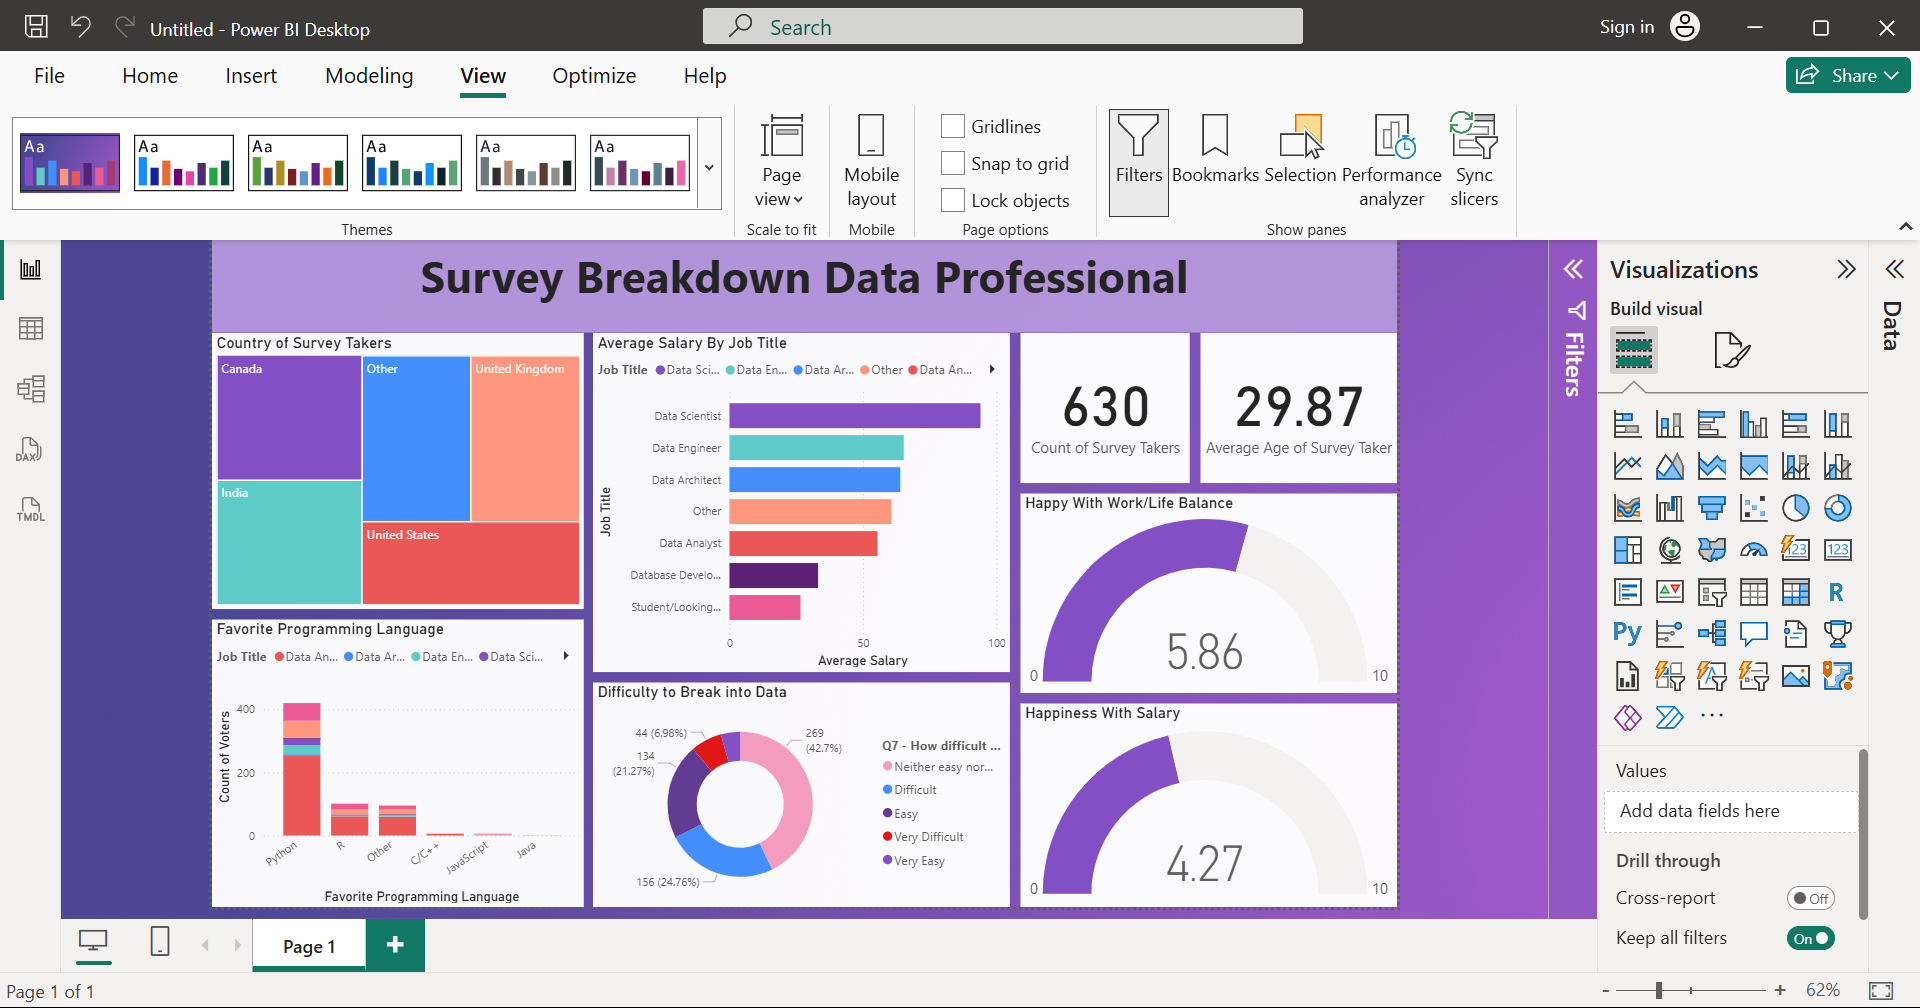

Layout of this report page (visuals, bound fields, positions):
{"tool":"powerbi","page":{"name":"Page 1","canvas":[1280,720],"ordinal":0},"visuals":[{"type":"textbox","box":[0,0,1279.4,100.2],"z":0},{"type":"card","fields":{"Values":["Count(Data Professional Survey.Unique ID)"]},"box":[872.8,100.4,183,161.9],"z":1000},{"type":"card","fields":{"Values":["Avg(Data Professional Survey.Q10 - Current Age)"]},"box":[1067.1,100.4,212.1,161.9],"z":2000},{"type":"barChart","title":"Average Salary By Job Title","fields":{"Category":["Data Professional Survey.Q1 - Which Title Best Fits your Current Role?.1"],"Y":["Avg(Data Professional Survey.Average Salary)"],"Series":["Data Professional Survey.Q1 - Which Title Best Fits your Current Role?.1"]},"box":[411.3,100.4,450.1,365.9],"z":3000},{"type":"columnChart","title":"Favorite Programming Language","fields":{"Category":["Data Professional Survey.Q5 - Favorite Programming Language.1"],"Y":["CountNonNull(Data Professional Survey.Unique ID)"],"Series":["Data Professional Survey.Q1 - Which Title Best Fits your Current Role?.1"]},"box":[0,409.7,401.6,310.9],"z":4000},{"type":"treemap","title":"Country of Survey Takers","fields":{"Group":["Data Professional Survey.Q11 - Which Country do you live in?.1"],"Values":["Count(Data Professional Survey.Q11 - Which Country do you live in?.1)"]},"box":[0,100.4,401.6,297.9],"z":5000},{"type":"gauge","title":"Happy With Work/Life Balance","fields":{"Y":["Avg(Data Professional Survey.Q6 - How Happy are you in your Current Position with the following? (Coworkers))"],"MinValue":["Min(Data Professional Survey.Q6 - How Happy are you in your Current Position with the following? (Coworkers))"],"MaxValue":["Max(Data Professional Survey.Q6 - How Happy are you in your Current Position with the following? (Coworkers))1"]},"box":[872.8,273.6,406.4,215.4],"z":6000},{"type":"gauge","title":"Happiness With Salary","fields":{"Y":["Avg(Data Professional Survey.Q6 - How Happy are you in your Current Position with the following? (Salary))"],"MinValue":["Min(Data Professional Survey.Q6 - How Happy are you in your Current Position with the following? (Salary))"],"MaxValue":["Max(Data Professional Survey.Q6 - How Happy are you in your Current Position with the following? (Salary))"]},"box":[872.8,500.3,406.4,220.2],"z":7000},{"type":"donutChart","title":"Difficulty to Break into Data","fields":{"Category":["Data Professional Survey.Q7 - How difficult was it for you to break into Data?"],"Y":["CountNonNull(Data Professional Survey.Q7 - How difficult was it for you to break into Data?)"]},"box":[411.3,477.7,450.1,242.9],"z":8000}]}

Visuals, with their boxes on the page's 1280x720 design canvas (x1, y1, x2, y2). These are canvas units, not pixel positions in the 1920x1008 screenshot, which may show the page scaled, cropped or inside an application window:
textbox: x1=0 y1=0 x2=1279 y2=100
card - Count(Data Professional Survey.Unique ID): x1=873 y1=100 x2=1056 y2=262
card - Avg(Data Professional Survey.Q10 - Current Age): x1=1067 y1=100 x2=1279 y2=262
"Average Salary By Job Title" barChart: x1=411 y1=100 x2=861 y2=466
"Favorite Programming Language" columnChart: x1=0 y1=410 x2=402 y2=721
"Country of Survey Takers" treemap: x1=0 y1=100 x2=402 y2=398
"Happy With Work/Life Balance" gauge: x1=873 y1=274 x2=1279 y2=489
"Happiness With Salary" gauge: x1=873 y1=500 x2=1279 y2=720
"Difficulty to Break into Data" donutChart: x1=411 y1=478 x2=861 y2=721
